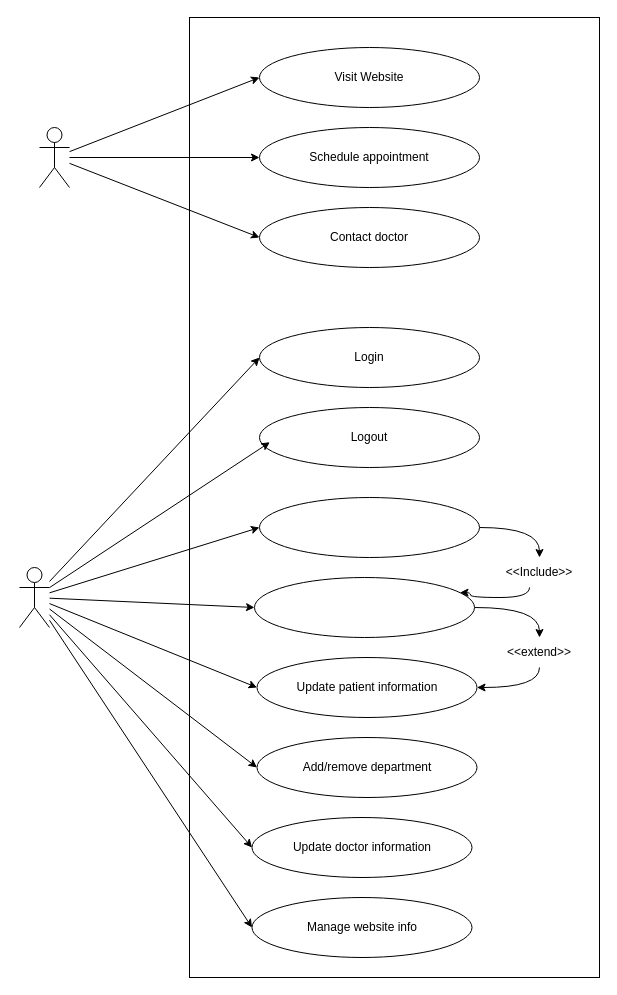
The diagram is 617 pixels wide and 995 high, and some of its shapes have lost their labels. The centre of each missing label's shape, as x and y in pixels:
"Admin" belongs at point (34, 597).
"Manage patient information" belongs at point (369, 527).
"User/ Patient" belongs at point (54, 157).
"Validate and save patient data" belongs at point (364, 607).
